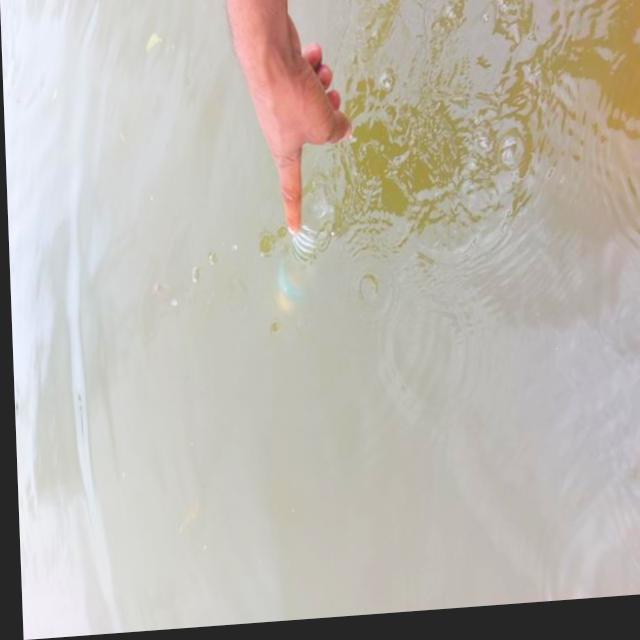waterbottle: (298, 190, 333, 322), (265, 238, 304, 333)
